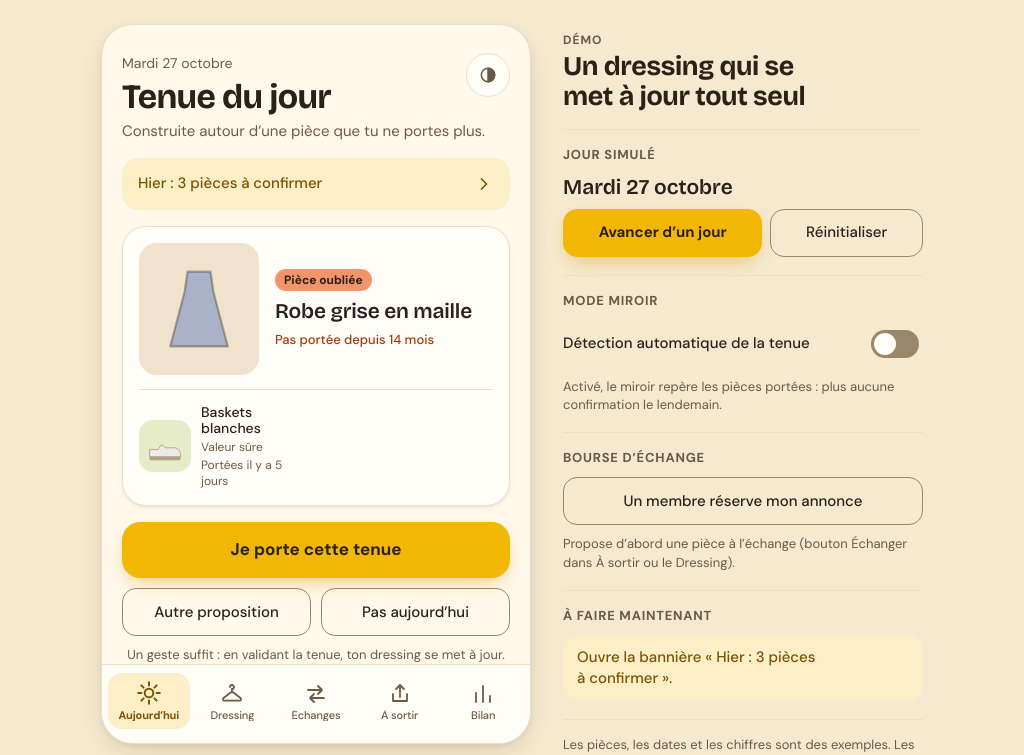
Test: écran Aujourd’hui › « Autre proposition » prévient quand il n’y a qu’une seule orpheline possible
# Aller-retour par « Pas aujourd’hui » pour recharger les données.
Click the button "Pas aujourd’hui" at (416, 612), box x1=321 y1=588 x2=510 y2=636
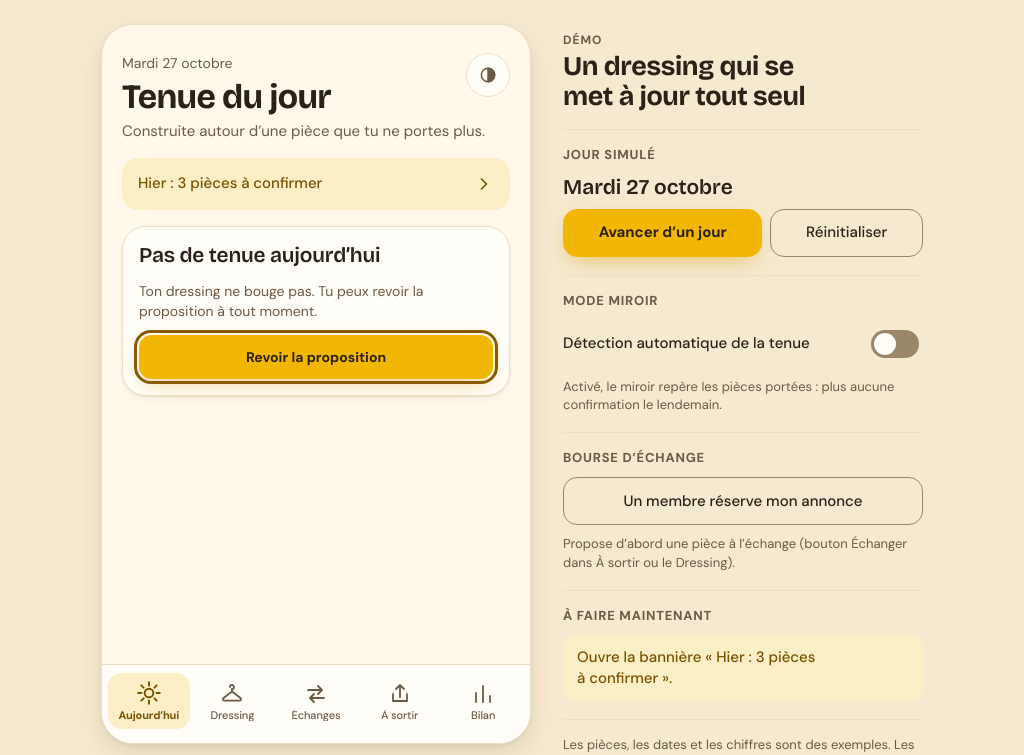
Click the button "Revoir la proposition" at (316, 357), box x1=139 y1=335 x2=493 y2=379
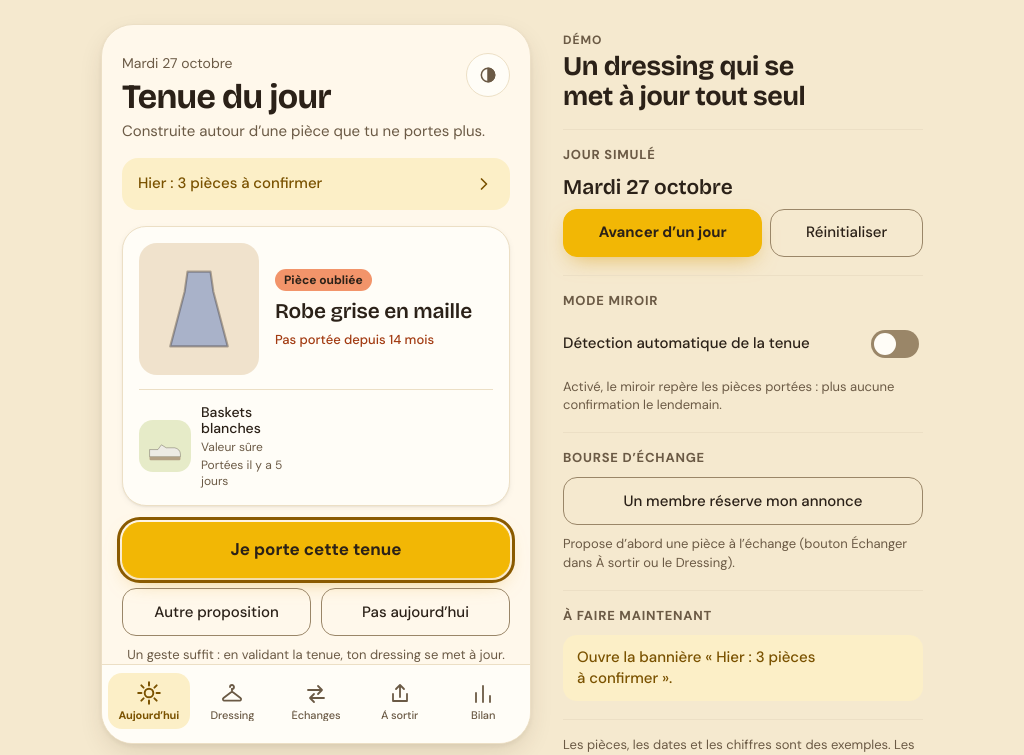
Click the button "Autre proposition" at (216, 612), box x1=122 y1=588 x2=311 y2=636
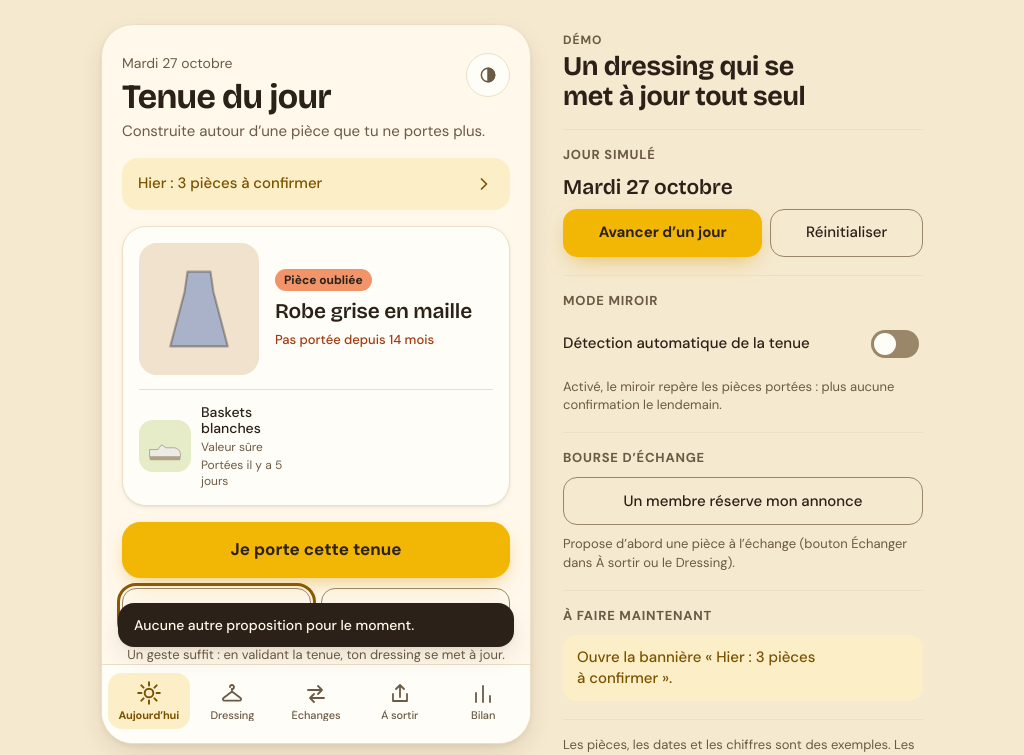
Now the heading "Robe grise en maille" is shown, box x1=275 y1=298 x2=472 y2=323
Now the text "Aucune autre proposition pour le moment." is shown, box x1=134 y1=615 x2=414 y2=635
